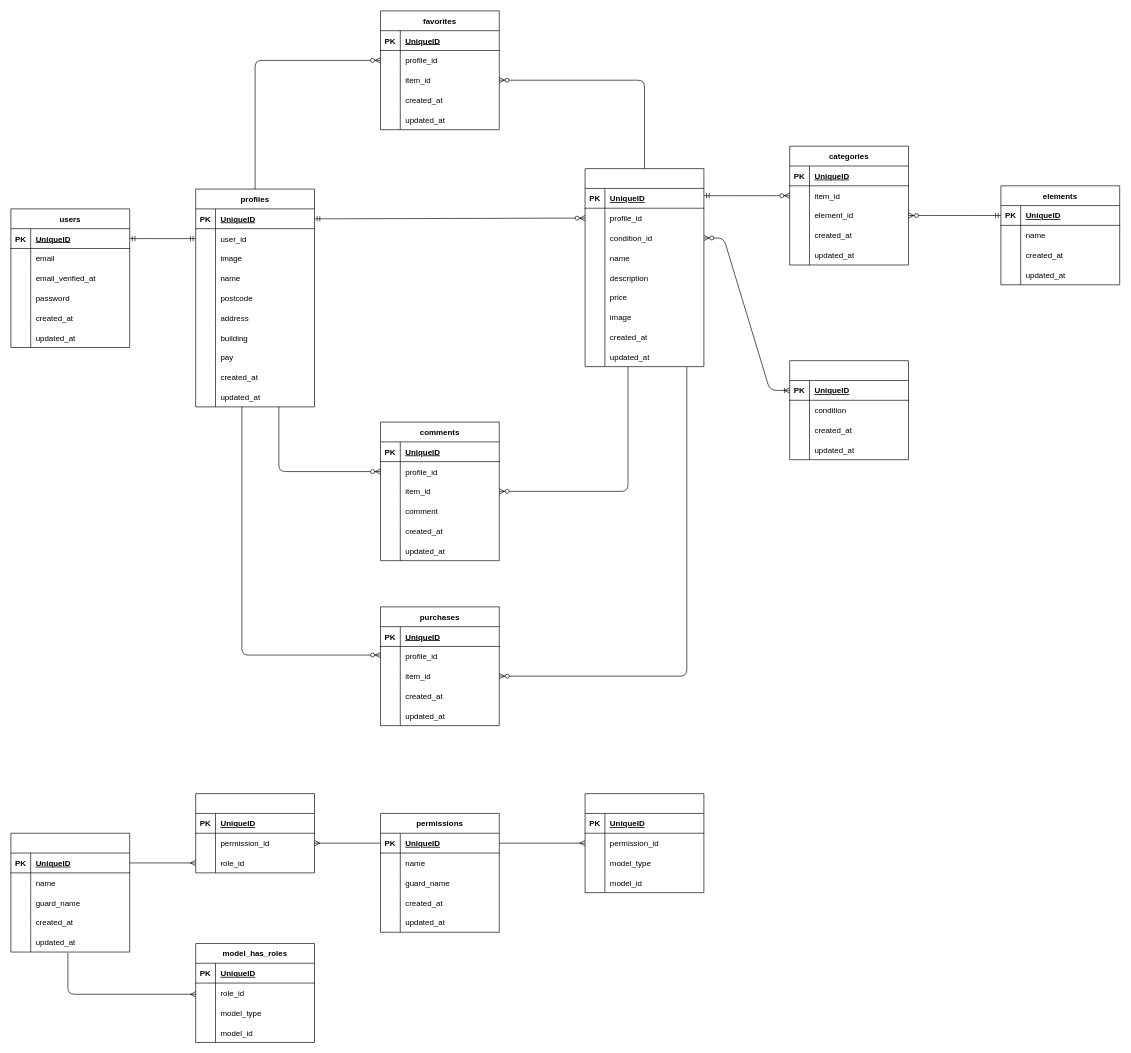
Some shapes in this 1131 by 1053 pixel diagram are drawn without their labels. Here are the shapes that lost their labels. From the top down, the box of each, then its label:
(584, 168, 704, 367): items
(789, 360, 908, 460): conditions
(195, 793, 314, 873): role_has_permissions
(584, 793, 704, 893): model_has_permissions
(10, 833, 130, 952): roles
